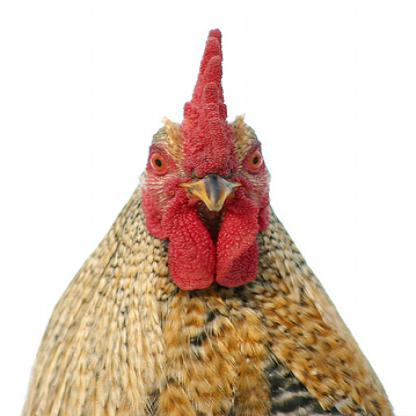bird: (23, 26, 396, 415)
